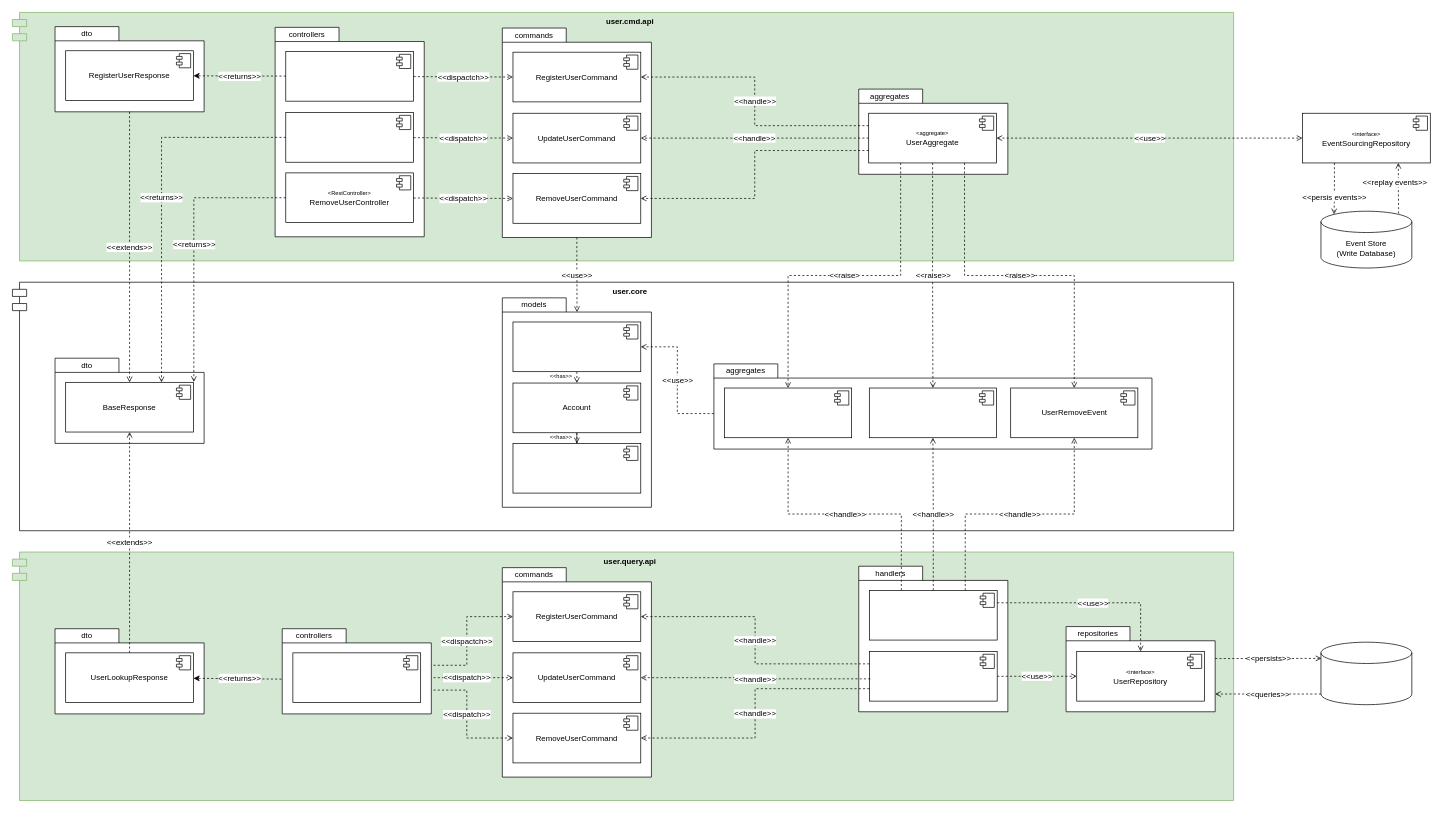
Some shapes in this 1443 by 813 pixel diagram are drawn without their labels. The centre of each missing label's shape, as x and y in pixels:
"<<RestController>> UserLookupController" belongs at point 356,677.
"<interface> UserEventHandler" belongs at point 933,615.
"<interface> UserQueryHandler" belongs at point 933,676.
"<RestController> RegisterUserController" belongs at point 349,76.
"<RestController> UpdateUserController" belongs at point 349,137.
"Role" belongs at point 576,468.
"User" belongs at point 576,346.
"User (Read Database)" belongs at point 1366,673.
"UserRegisteredEvent" belongs at point 788,412.
"UserUpdatedEvent" belongs at point 932,412.
